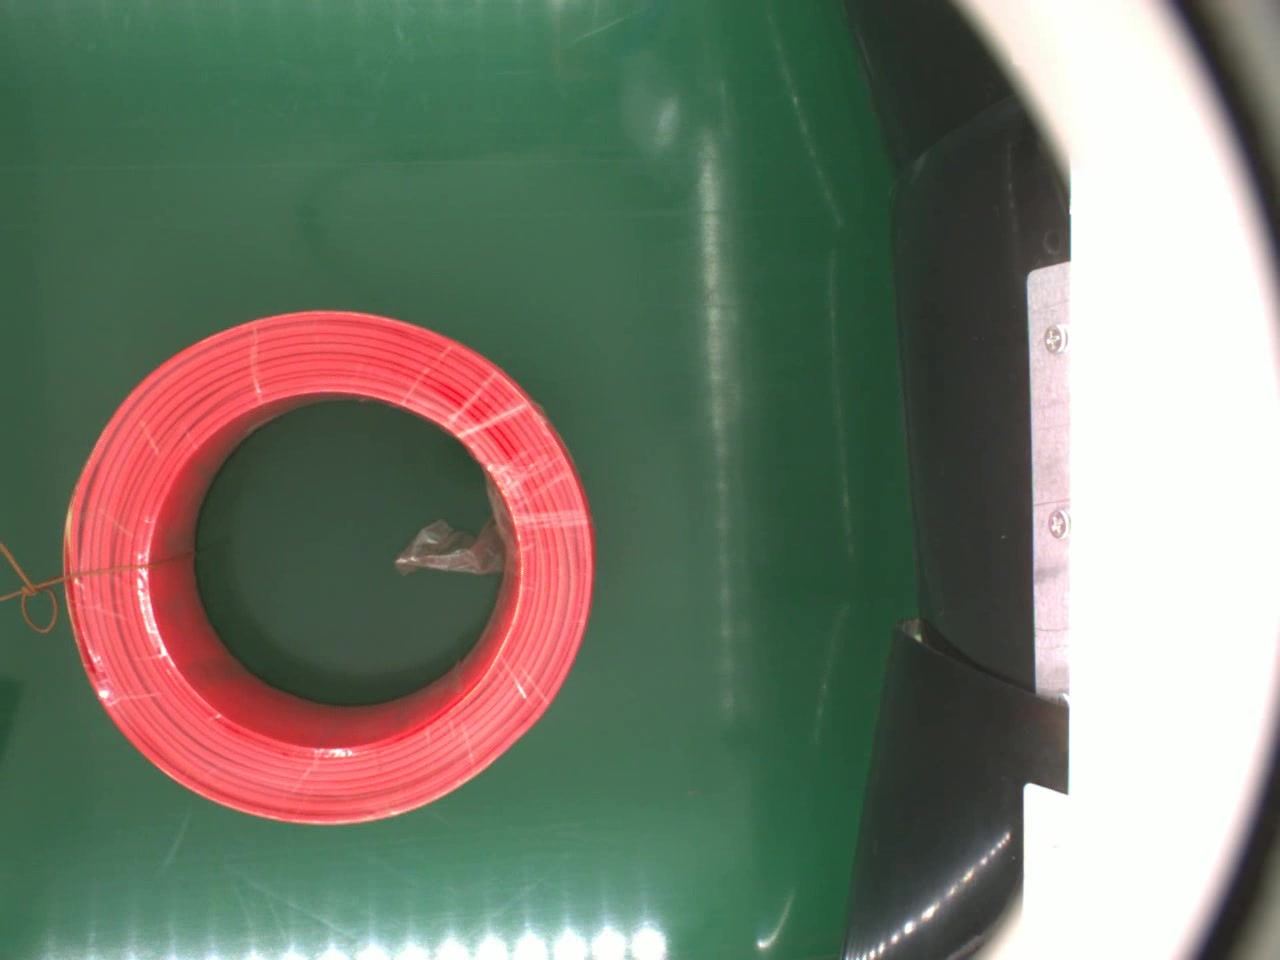red: (49, 298, 590, 836)
